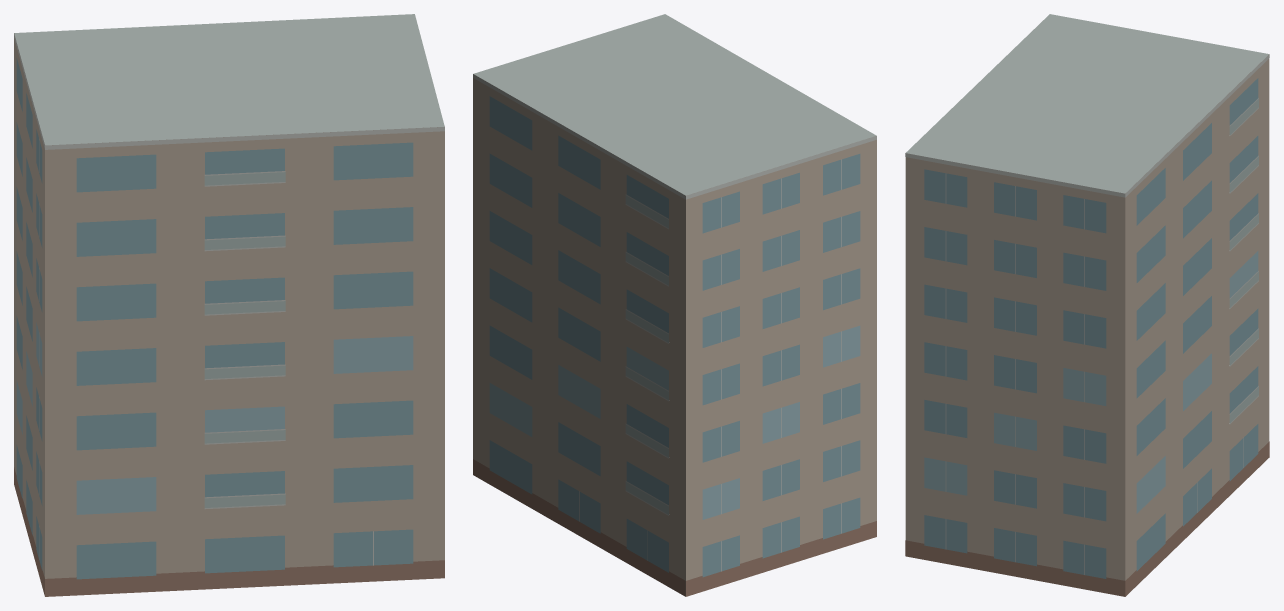
The model's file is survey-upis-32976794.glb.
3 views of the same model, side by side, from view 1: azimuth 30°, elevation 25°; view 2: azimuth 150°, elevation 25°; view 3: azimuth 270°, elevation 25° (orthographic). The views are drawn at different scales.
Parts seen in each view (by area): view 1: survey-upis-32976794.tmp; view 2: survey-upis-32976794.tmp; view 3: survey-upis-32976794.tmp.
Part boxes in pixels (x1,y1,x2,y2): survey-upis-32976794.tmp: (14,14,444,596); survey-upis-32976794.tmp: (473,14,876,596); survey-upis-32976794.tmp: (905,14,1269,596).
Bounding box in the file's own units: 23.41 × 24.5 × 20.05.
